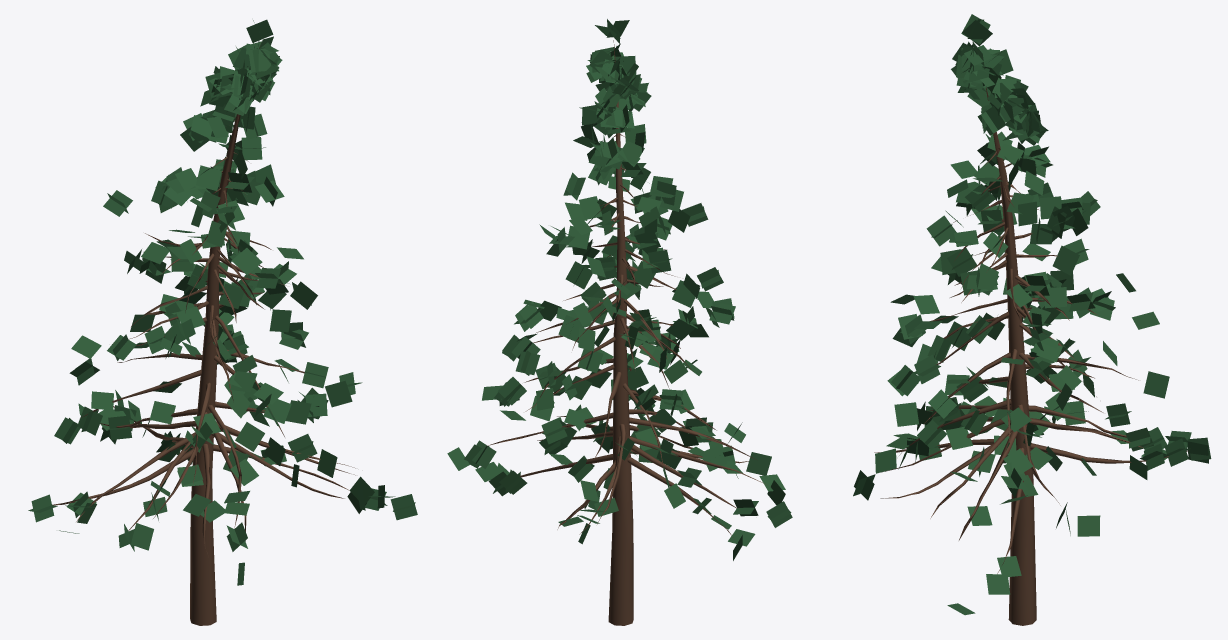
File: meadow-pine-a.lod2.glb
3 views of the same model, side by side, from view 1: azimuth 30°, elevation 25°; view 2: azimuth 150°, elevation 25°; view 3: azimuth 270°, elevation 25° (orthographic). The views are drawn at different scales.
Visible parts, largest first — view 1: leaves, bark; view 2: leaves, bark; view 3: leaves, bark.
Boxes of the visible parts, x1,y1,x2,y2 form: leaves: (28,19,417,585); bark: (52,42,355,625); leaves: (447,19,792,560); bark: (487,40,765,625); leaves: (853,14,1211,615); bark: (874,87,1188,625).
Bounding box in the file's own units: 30.39 × 51.27 × 29.44.
